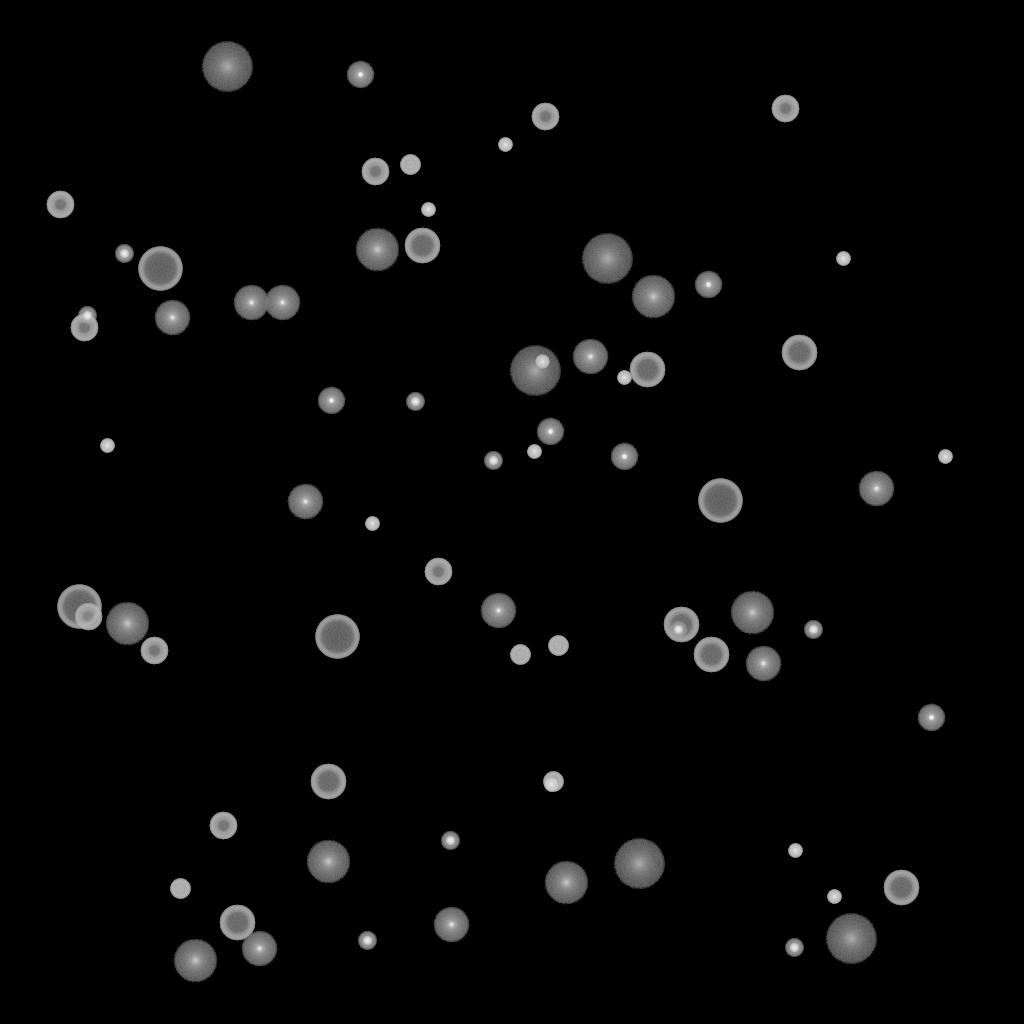depth:-10: (610, 443, 638, 471), (346, 61, 374, 89), (917, 704, 945, 732), (694, 271, 722, 299), (317, 387, 345, 415), (536, 418, 564, 446)
depth:-20: (441, 832, 459, 850), (669, 621, 687, 639), (406, 393, 424, 411), (78, 307, 96, 325), (358, 932, 376, 950), (115, 245, 133, 263), (785, 939, 803, 957), (804, 621, 822, 639), (484, 452, 502, 470)
depth:-30: (421, 203, 435, 217), (365, 517, 379, 531), (938, 450, 952, 464), (544, 778, 558, 792), (527, 445, 541, 459), (617, 371, 631, 385), (100, 439, 114, 453), (836, 252, 850, 266), (535, 355, 549, 369), (498, 138, 512, 152), (827, 890, 841, 904), (788, 844, 802, 858)
depth:-40: (510, 645, 530, 665), (548, 636, 568, 656), (170, 879, 190, 899), (400, 155, 420, 175), (543, 772, 563, 792)
depth:-50: (46, 191, 74, 219), (771, 95, 799, 123), (209, 812, 237, 840), (74, 603, 102, 631), (531, 103, 559, 131), (140, 637, 168, 665), (70, 314, 98, 342), (424, 558, 452, 586), (361, 158, 389, 186)
depth:-60: (629, 352, 665, 388), (404, 228, 440, 264), (219, 905, 255, 941), (310, 764, 346, 800), (781, 335, 817, 371), (693, 637, 729, 673), (663, 607, 699, 643), (883, 870, 919, 906)
depth:-70: (698, 479, 742, 523), (315, 615, 359, 659), (138, 247, 182, 291), (57, 585, 101, 629)
depth:0: (572, 339, 608, 375), (745, 646, 781, 682), (264, 285, 300, 321), (241, 931, 277, 967), (433, 907, 469, 943), (233, 285, 269, 321), (287, 484, 323, 520), (154, 300, 190, 336), (858, 471, 894, 507), (480, 593, 516, 629)
depth:10: (355, 228, 399, 272), (631, 275, 675, 319), (173, 939, 217, 983), (544, 861, 588, 905), (306, 840, 350, 884), (730, 591, 774, 635), (105, 602, 149, 646)
depth:20: (509, 346, 561, 396), (581, 234, 633, 284), (201, 42, 253, 92), (613, 839, 665, 889), (825, 914, 877, 964)
